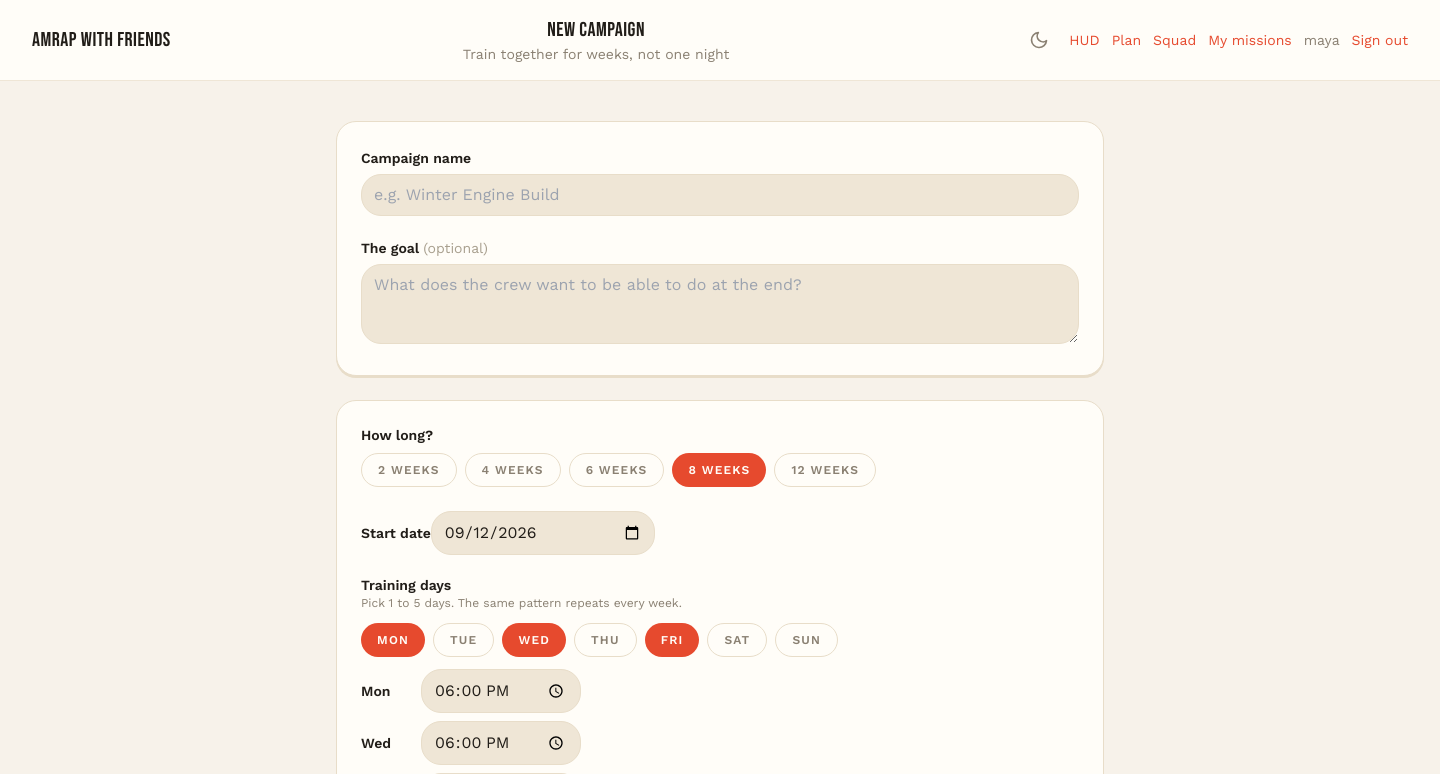
Test: CreateCampaignPage › will not let the host schedule more than five days a week
Click the button "Tue": x=464, y=640 x1=433 y1=623 x2=494 y2=657
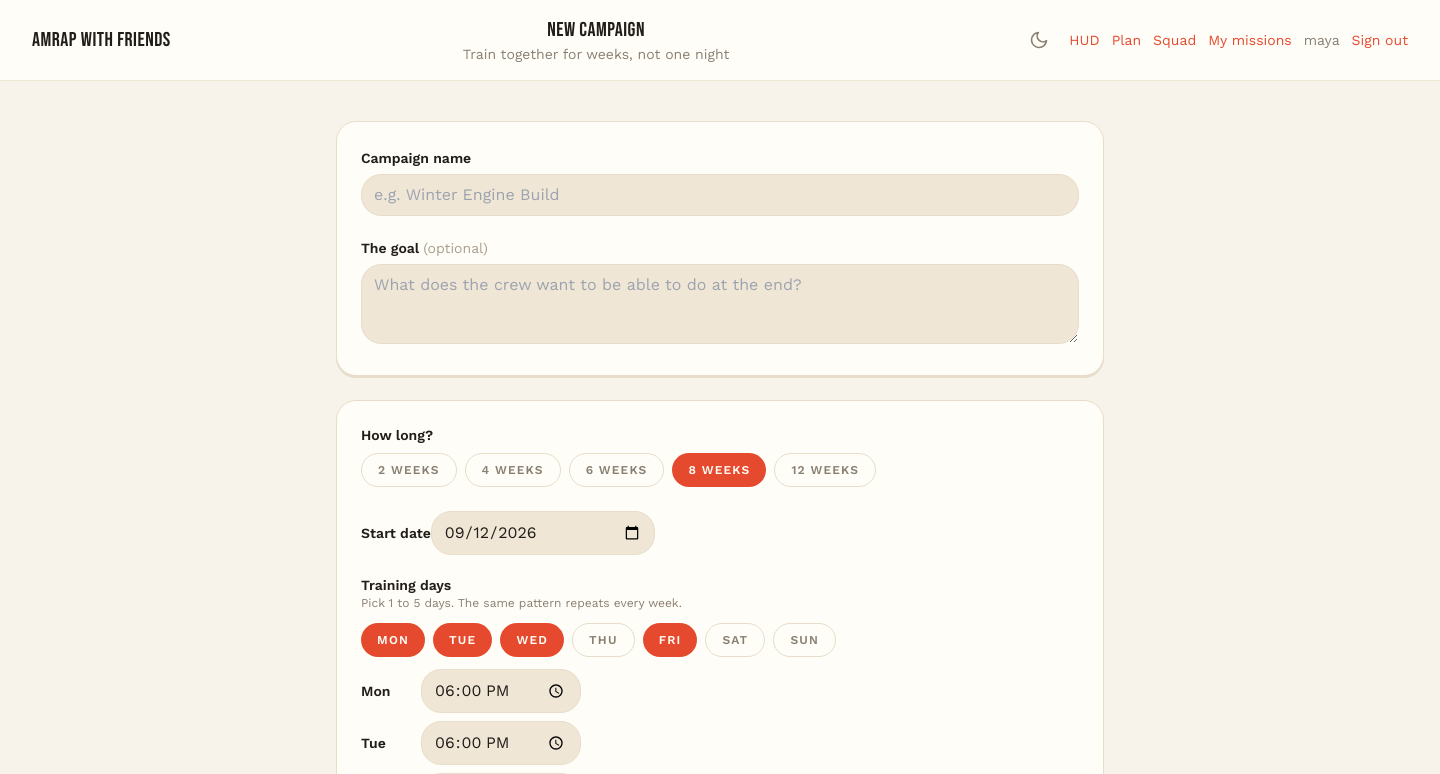
Click the button "Thu": x=603, y=640 x1=572 y1=623 x2=635 y2=657
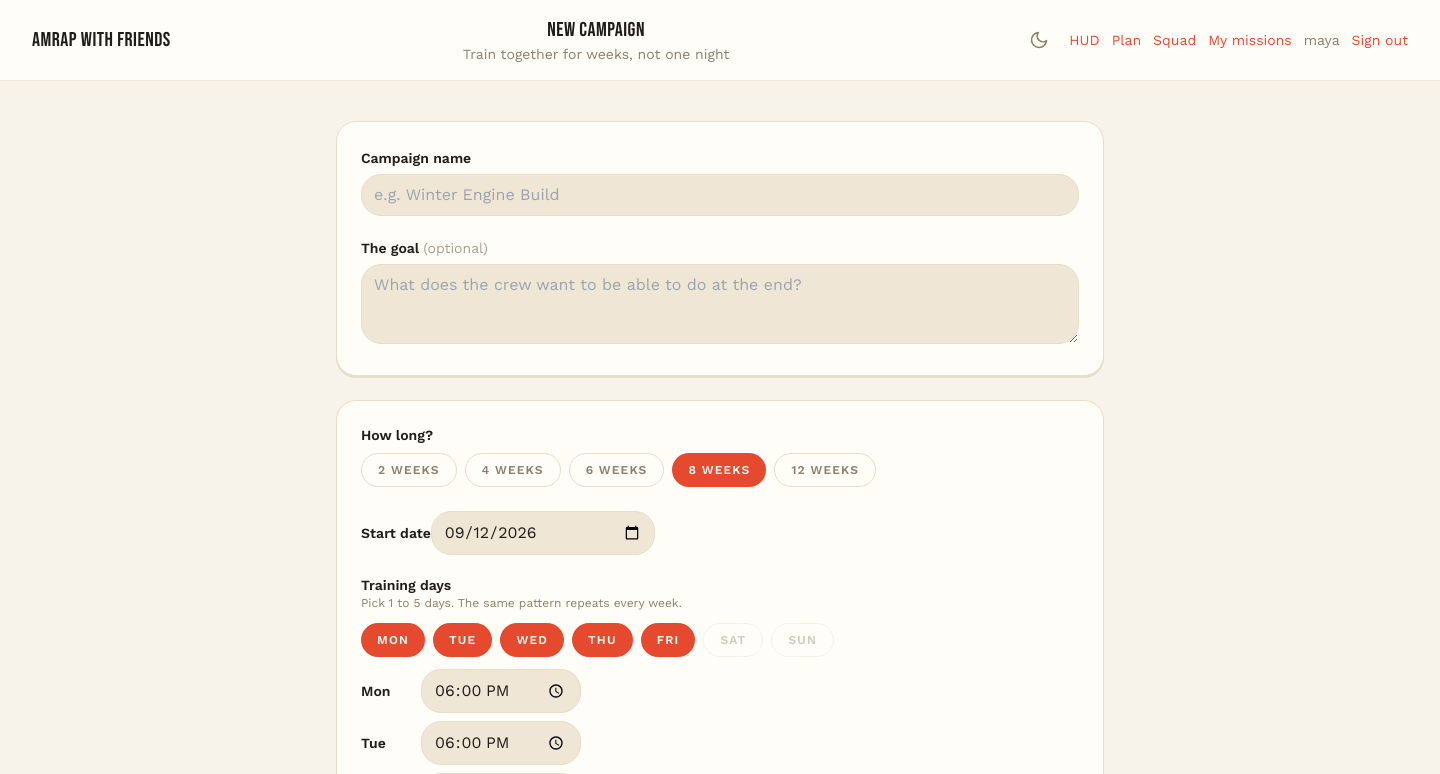
Result: the button "Sat" is disabled at x1=704 y1=623 x2=763 y2=657
